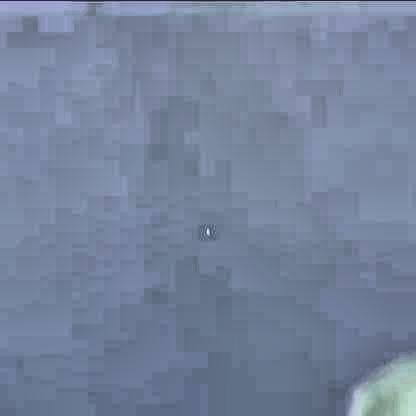golfball: (202, 226, 212, 233)
